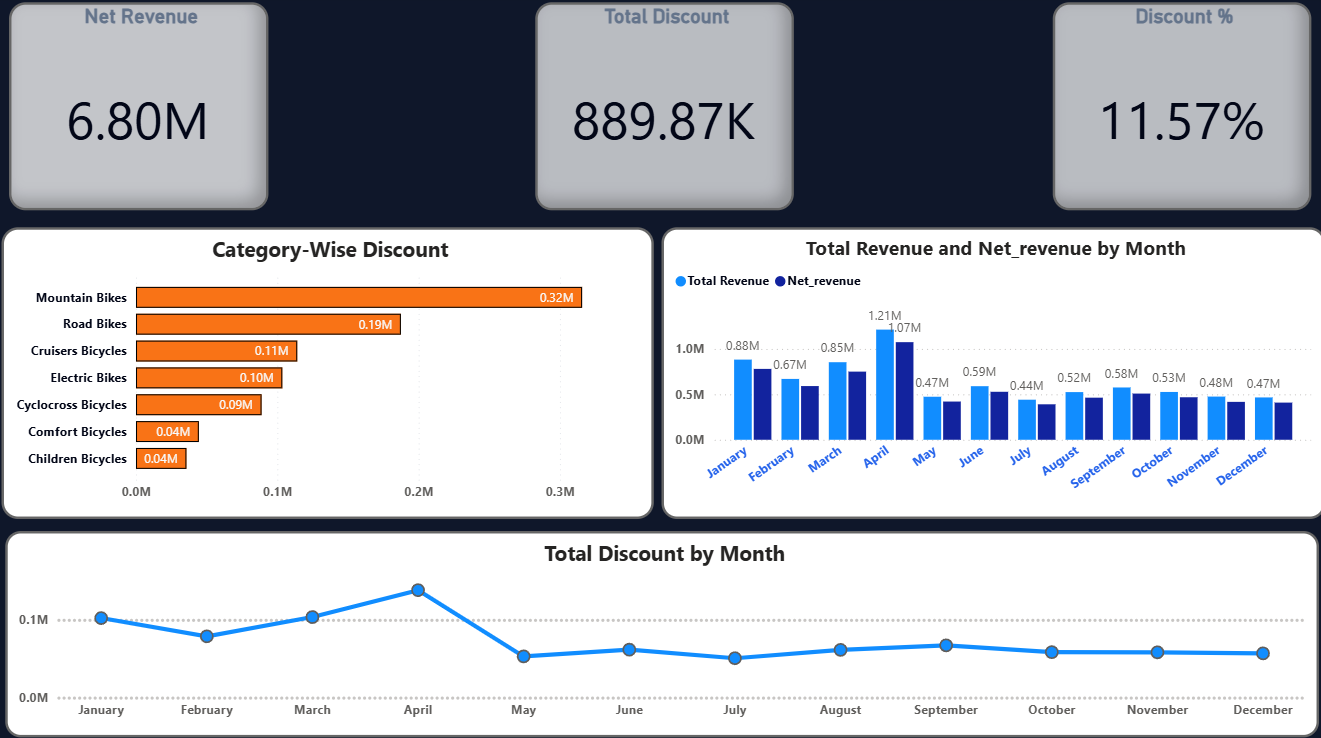

This screenshot's page, from the dashboard's own definition file:
{"tool":"powerbi","page":{"name":"Discount Impact & Net Revenue Analysis","canvas":[1280,720],"ordinal":3},"visuals":[{"type":"card","title":"Net Revenue","fields":{"Values":["Measure.Net_revenue"]},"box":[9.8,6.3,250.7,200.5],"z":0},{"type":"card","title":"Total Discount","fields":{"Values":["Measure.Total Discount"]},"box":[517.3,6.3,249.5,200.5],"z":1000},{"type":"clusteredBarChart","title":"Category-Wise Discount","fields":{"Category":["categories.category_name"],"Y":["Measure.Total Discount"]},"box":[2.7,223.7,629.8,281.3],"z":2000},{"type":"lineChart","fields":{"Category":["orders.order_date.Variation.Date Hierarchy.Month"],"Y":["Measure.Total Discount"]},"box":[5.5,516,1267.9,199],"z":3000},{"type":"clusteredColumnChart","fields":{"Category":["orders.order_date.Variation.Date Hierarchy.Month"],"Y":["Measure.Total Revenue","Measure.Net_revenue"]},"box":[639.5,223.7,640.8,281.3],"z":4000},{"type":"card","title":"Discount %","fields":{"Values":["Measure.Discount %"]},"box":[1017.4,6.1,249.5,200.5],"z":5000}]}

Visuals, with their boxes in screenshot pixels (x1, y1, x2, y2), scaled from the page's 1280x720 canvas onto the 1321x738 screenshot:
"Net Revenue" card: [left=10, top=6, right=269, bottom=212]
"Total Discount" card: [left=534, top=6, right=791, bottom=212]
"Category-Wise Discount" clusteredBarChart: [left=3, top=229, right=653, bottom=518]
lineChart - orders.order_date.Variation.Date Hierarchy.Month x Measure.Total Discount: [left=6, top=529, right=1314, bottom=733]
clusteredColumnChart - orders.order_date.Variation.Date Hierarchy.Month x Measure.Total Revenue: [left=660, top=229, right=1320, bottom=518]
"Discount %" card: [left=1050, top=6, right=1307, bottom=212]
